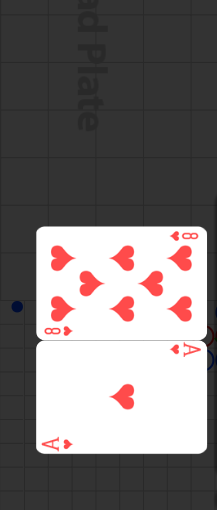8H: (168, 230, 199, 243)
AH: (41, 435, 76, 452)
